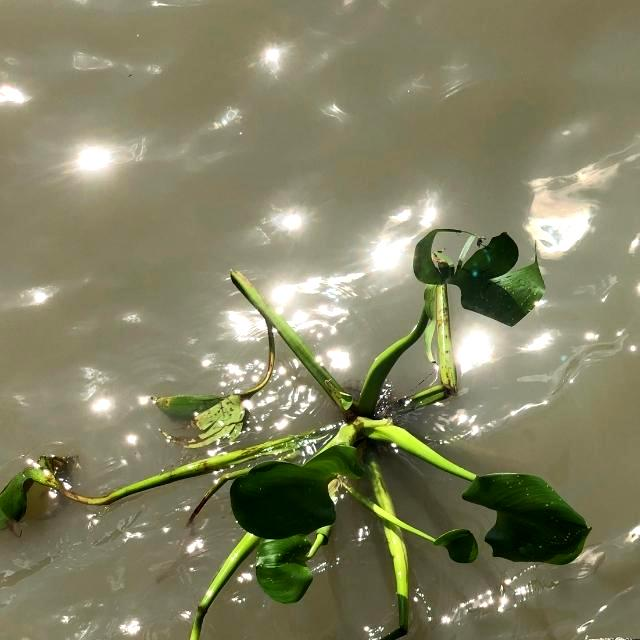water-hyacinth: (5, 216, 616, 640)
